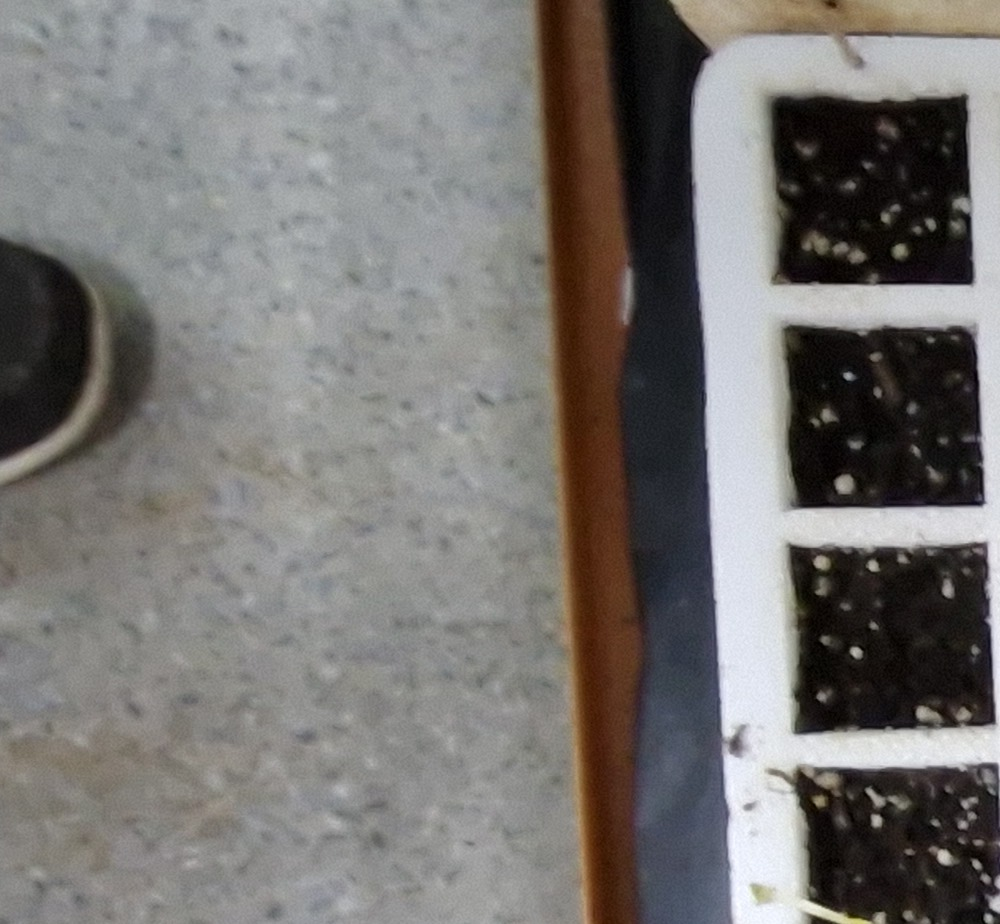Folha: (366, 721, 381, 733), (769, 407, 783, 417), (759, 392, 770, 404), (381, 727, 393, 736)
Germinacao: (759, 391, 784, 420), (368, 721, 394, 738)
